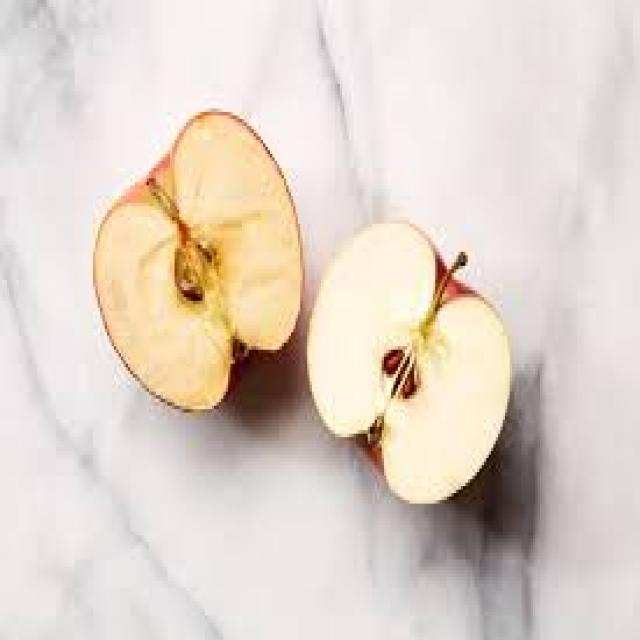Used Apple: (90, 110, 306, 418), (303, 223, 511, 511)
